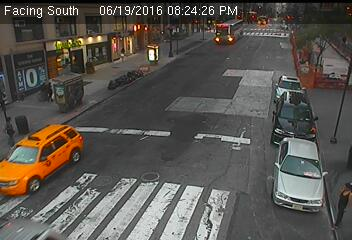neg: (180, 69, 206, 104), (236, 75, 261, 109), (327, 54, 349, 84), (63, 76, 82, 102), (305, 43, 322, 66), (82, 58, 95, 76)
pos: (326, 178, 351, 232), (1, 115, 23, 146), (40, 80, 60, 107), (117, 44, 132, 64)
